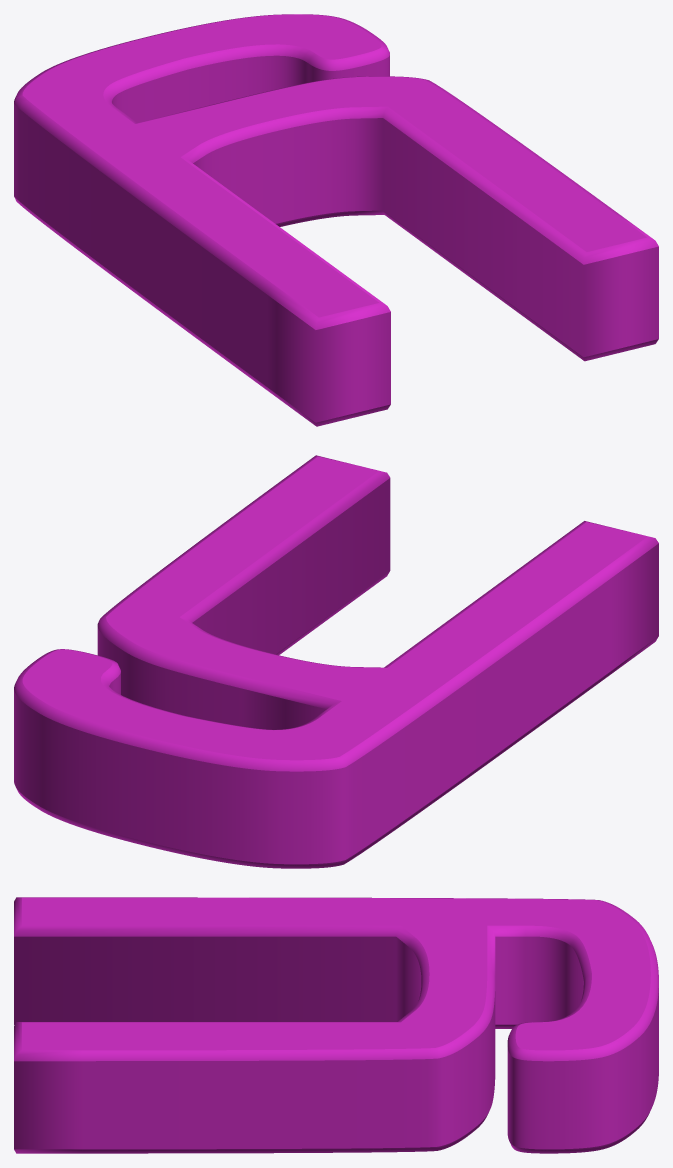
File: Letter_y_CoolFont.fbx
3 views of the same model, one above another, from view 1: azimuth 30°, elevation 25°; view 2: azimuth 150°, elevation 25°; view 3: azimuth 270°, elevation 25° (orthographic). The views are drawn at different scales.
Parts seen in each view (by area): view 1: Letter_y; view 2: Letter_y; view 3: Letter_y.
Part boxes in pixels (x1,y1,x2,y2): Letter_y: (14,14,658,426); Letter_y: (14,455,658,868); Letter_y: (14,897,658,1153).
Size of the model in its own units: 0.4657 by 0.14 by 0.7954.
